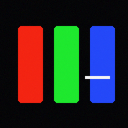3 line_h: (85, 76, 109, 78)
